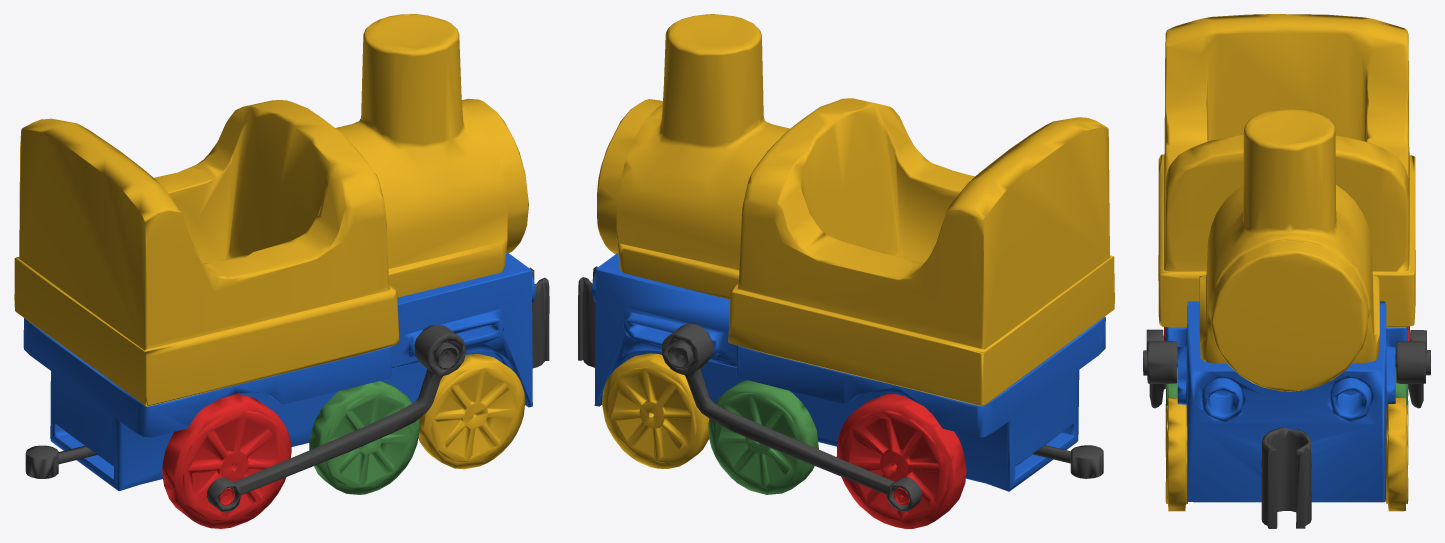
File: train_vagone1_LOD01.fbx
3 renders of one model, left to right at view 1: azimuth 30°, elevation 25°; view 2: azimuth 150°, elevation 25°; view 3: azimuth 270°, elevation 25°, orthographic. The views are drawn at different scales.
Parts seen in each view (by area): view 1: train engine; view 2: train engine; view 3: train engine.
Part boxes in pixels (x1=…): train engine: x1=14, y1=14, x2=549, y2=528; train engine: x1=578, y1=14, x2=1114, y2=528; train engine: x1=1143, y1=14, x2=1430, y2=528.
Bounding box in the file's own units: 250 × 182 × 125.
